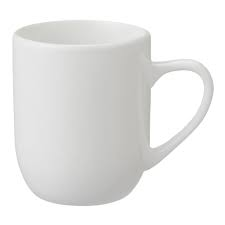mug: (8, 13, 214, 208)
